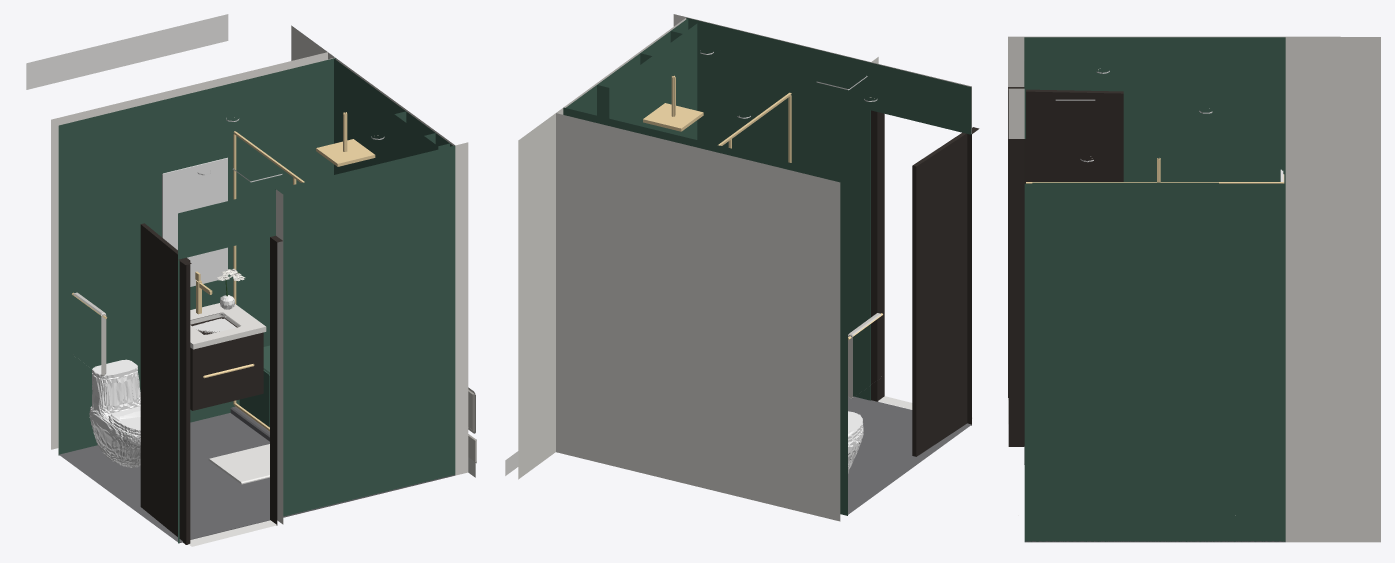
File: CBATH.glb
3 renders of one model, left to right at view 1: azimuth 30°, elevation 25°; view 2: azimuth 150°, elevation 25°; view 3: azimuth 270°, elevation 25°, orthographic. The views are drawn at different scales.
Parts seen in each view (by area): view 1: WEB_CBATH; view 2: WEB_CBATH; view 3: WEB_CBATH.
Part boxes in pixels (x1=…): WEB_CBATH: x1=26, y1=14, x2=476, y2=546; WEB_CBATH: x1=505, y1=14, x2=979, y2=521; WEB_CBATH: x1=1008, y1=36, x2=1380, y2=542.
Size of the model in its own units: 2.34 by 2.7 by 2.36.
